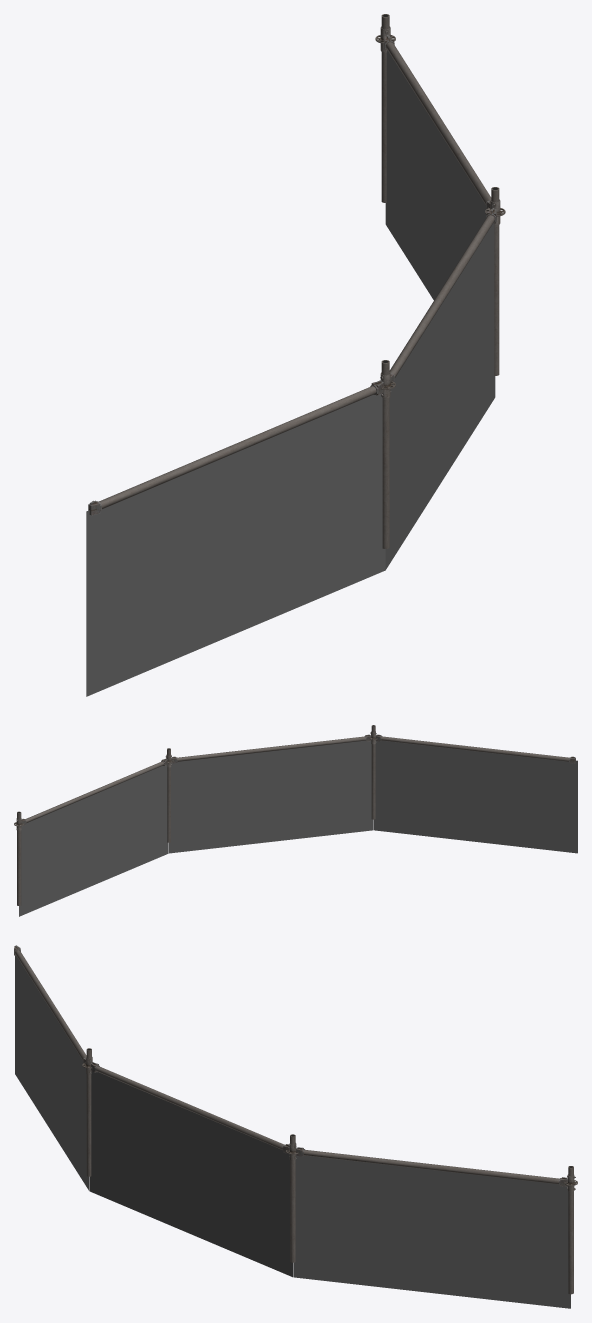
Rendered from scaffold_mid_turnr_96x192.fbx.
3 renders of one model, top to bottom at view 1: azimuth 30°, elevation 25°; view 2: azimuth 150°, elevation 25°; view 3: azimuth 270°, elevation 25°, orthographic. The views are drawn at different scales.
Visible parts, largest first — view 1: scaffold_mid_turnR_96x192; view 2: scaffold_mid_turnR_96x192; view 3: scaffold_mid_turnR_96x192.
Boxes of the visible parts, x1,y1,x2,y2 form: scaffold_mid_turnR_96x192: (86, 14, 505, 696); scaffold_mid_turnR_96x192: (14, 725, 577, 916); scaffold_mid_turnR_96x192: (14, 945, 577, 1308).
Size of the model in its own units: 389 by 108 by 389.
